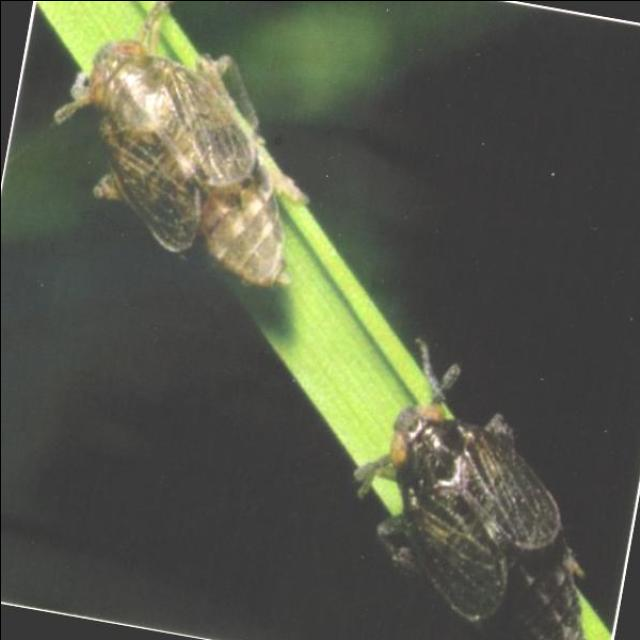ricebug: (54, 0, 307, 285), (355, 400, 585, 640)
